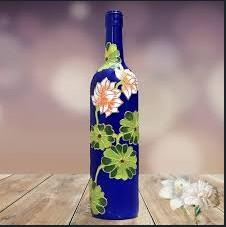bottle: (78, 7, 159, 223)
